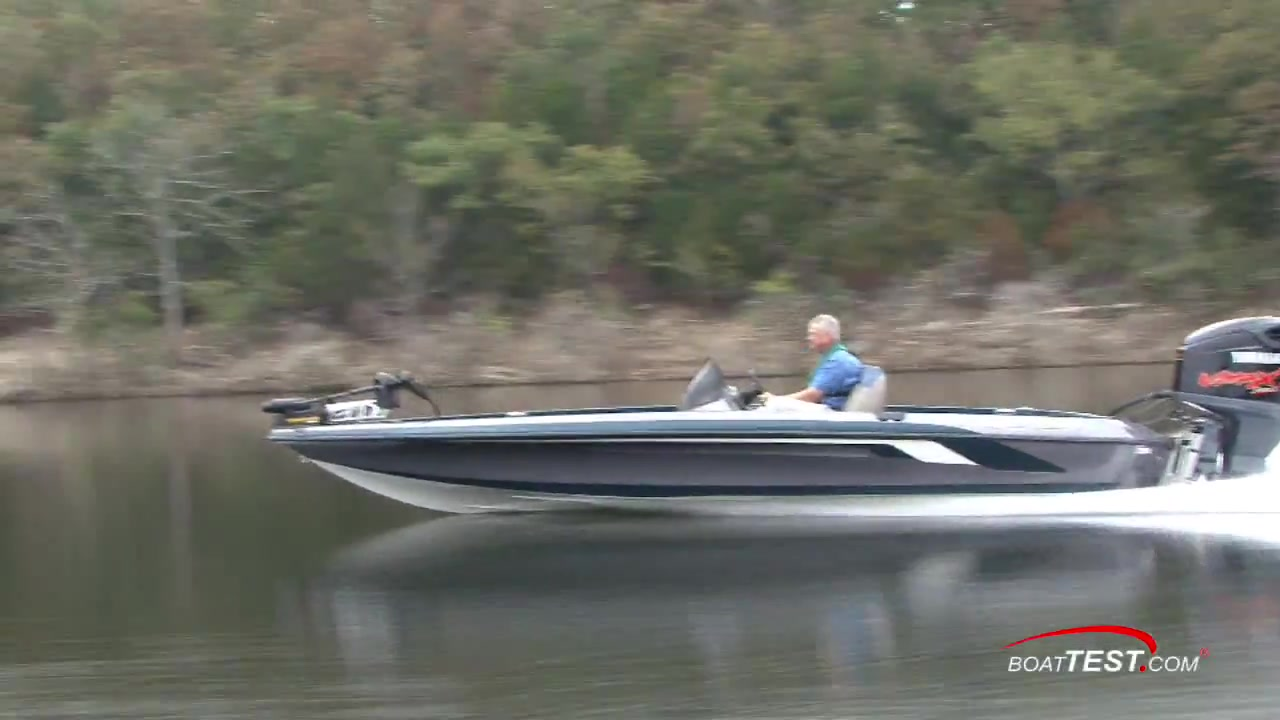boat: (269, 317, 1279, 510)
